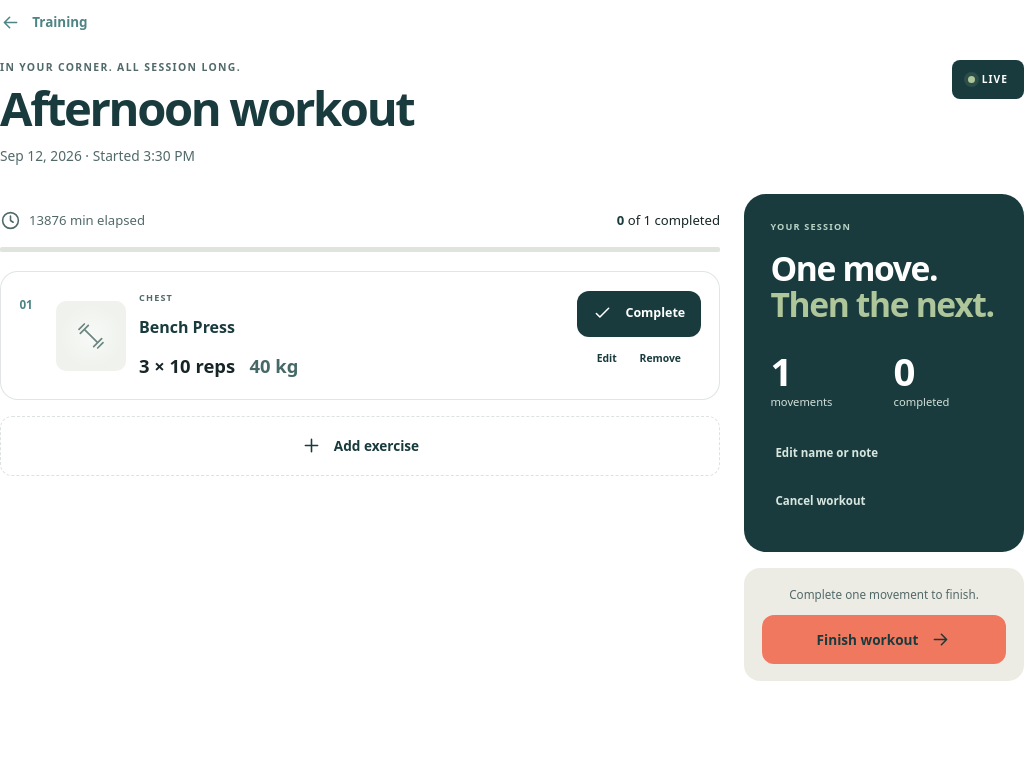
Test: Training lifecycle › handles deletion as 204 and refreshes the movement list
Click the button with aria-label "Remove Bench Press" at (660,359), box x1=634 y1=337 x2=686 y2=381
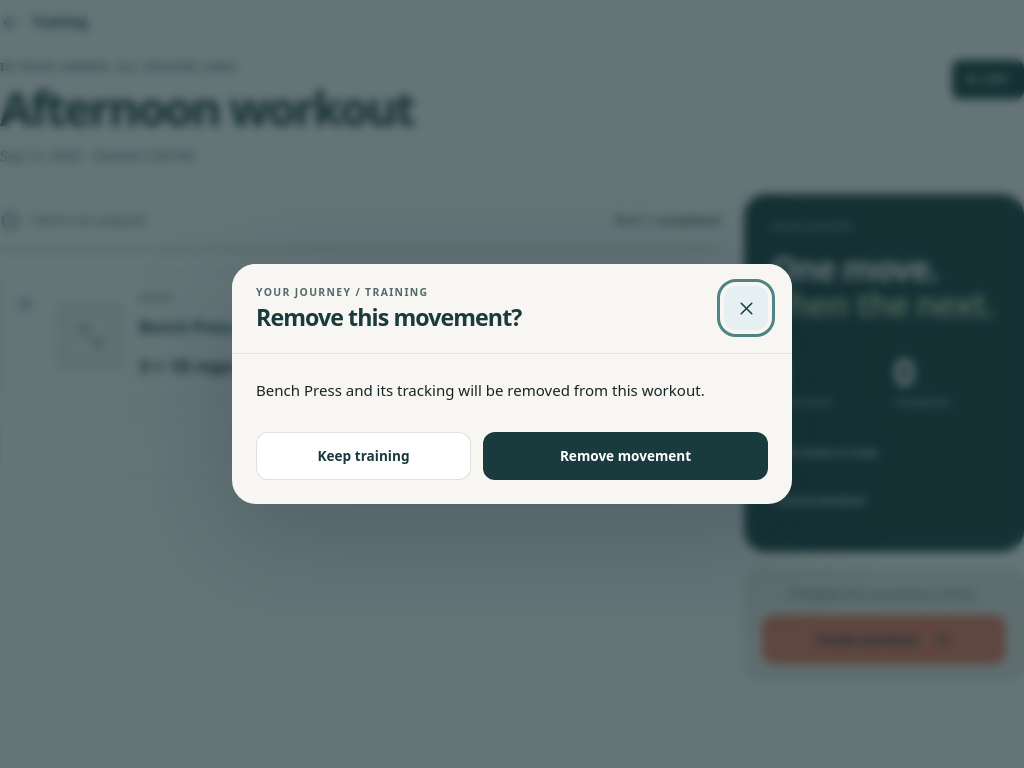
Click the button "Remove movement" at (626,456), box x1=483 y1=432 x2=768 y2=480
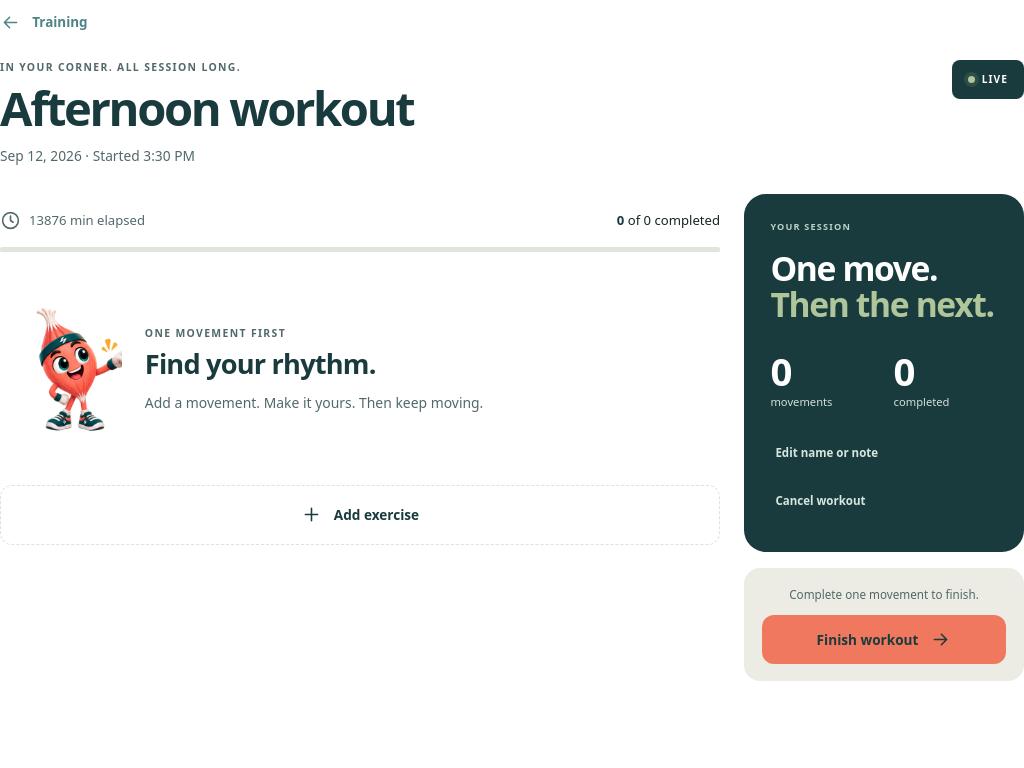
Check: the heading "Find your rhythm." is shown, box x1=145 y1=345 x2=376 y2=382
